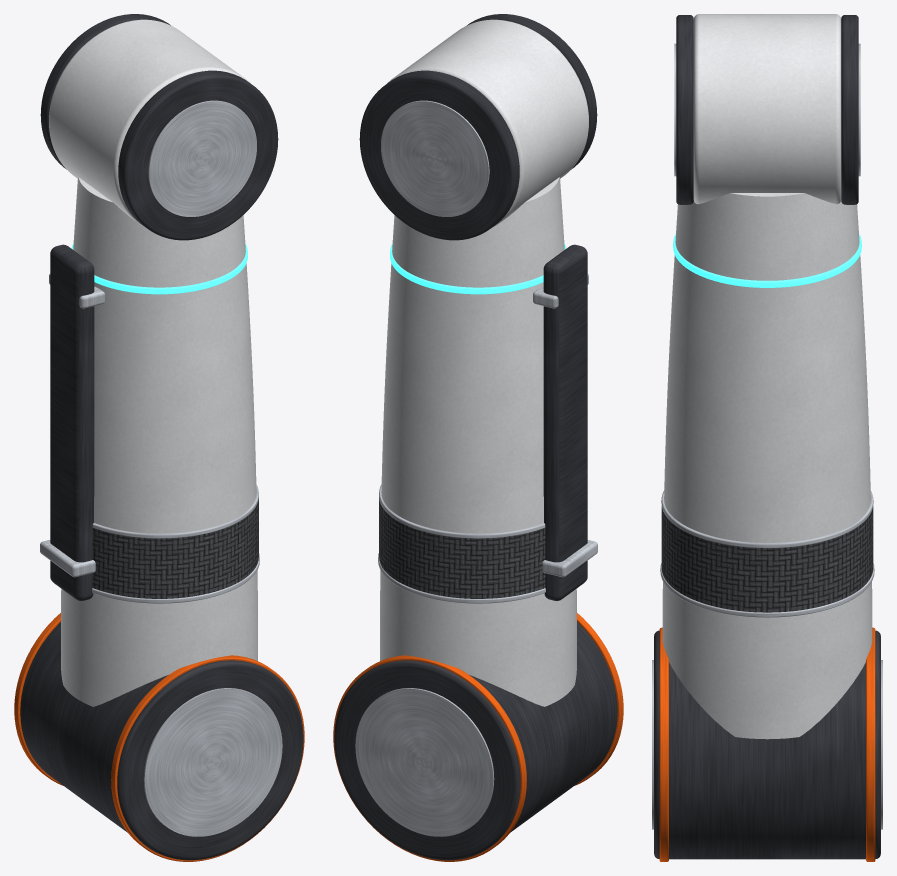
File: upper_arm_link.dae
The picture shows the model from 3 angles, left to right: view 1: azimuth 30°, elevation 25°; view 2: azimuth 150°, elevation 25°; view 3: azimuth 270°, elevation 25°; orthographic projection. The views are drawn at different scales.
Parts seen in each view (by area): view 1: link_2; view 2: link_2; view 3: link_2.
Part boxes in pixels (box(x1,y1,x2,y2)): link_2: box(14, 14, 304, 861); link_2: box(333, 14, 623, 861); link_2: box(652, 14, 882, 861).
Size of the model in its own units: 0.1325 by 0.1252 by 0.4955.
6 materials, 5 textured.
